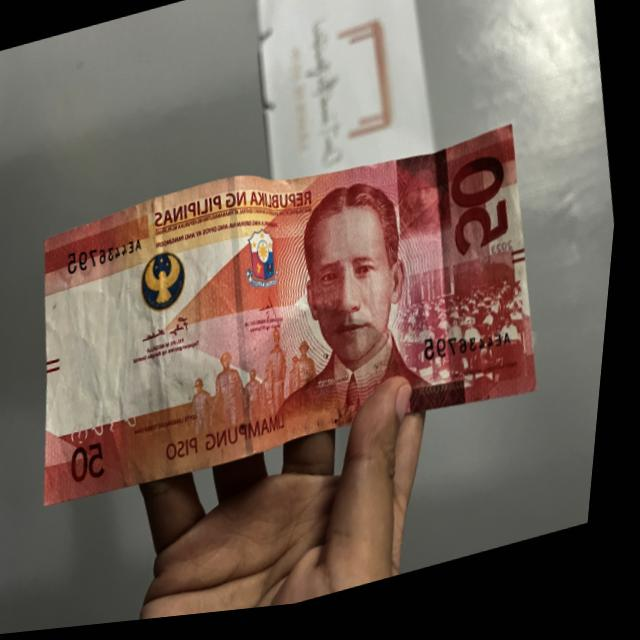concealed_value: (386, 151, 466, 253)
see_through_mark: (64, 396, 154, 458)
value: (435, 160, 529, 282)
